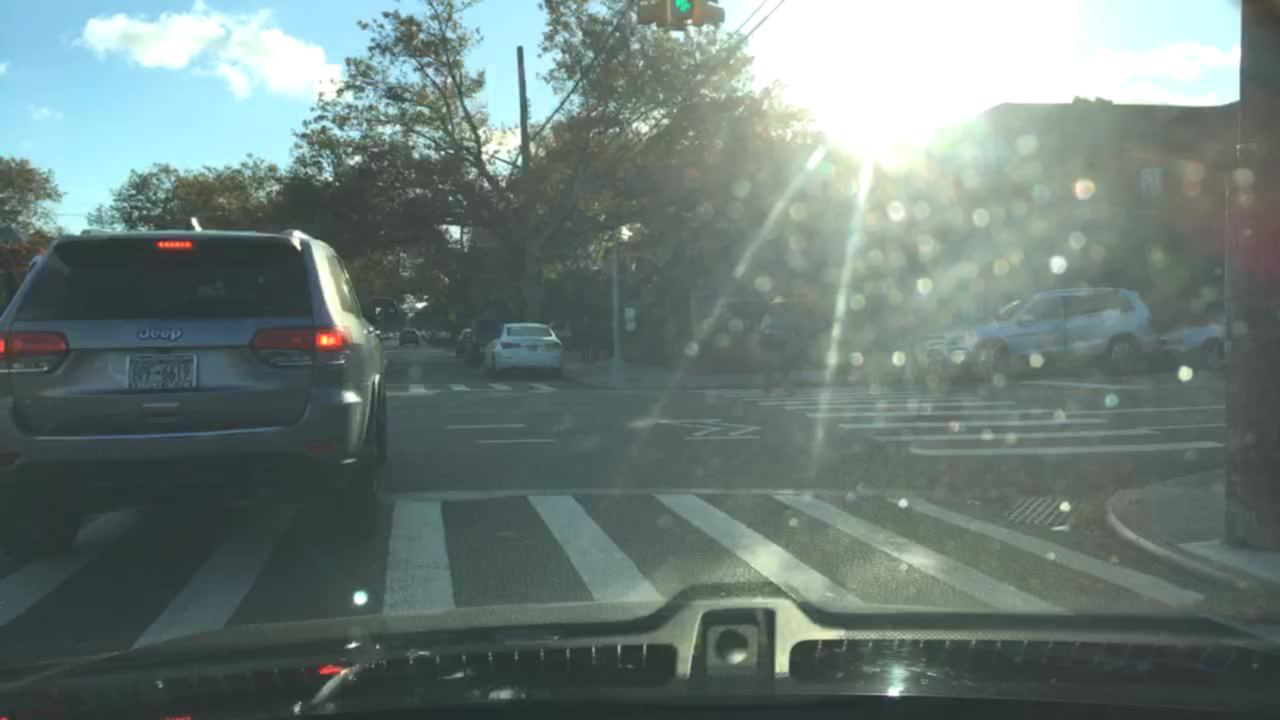jeep: (133, 321, 186, 348)
